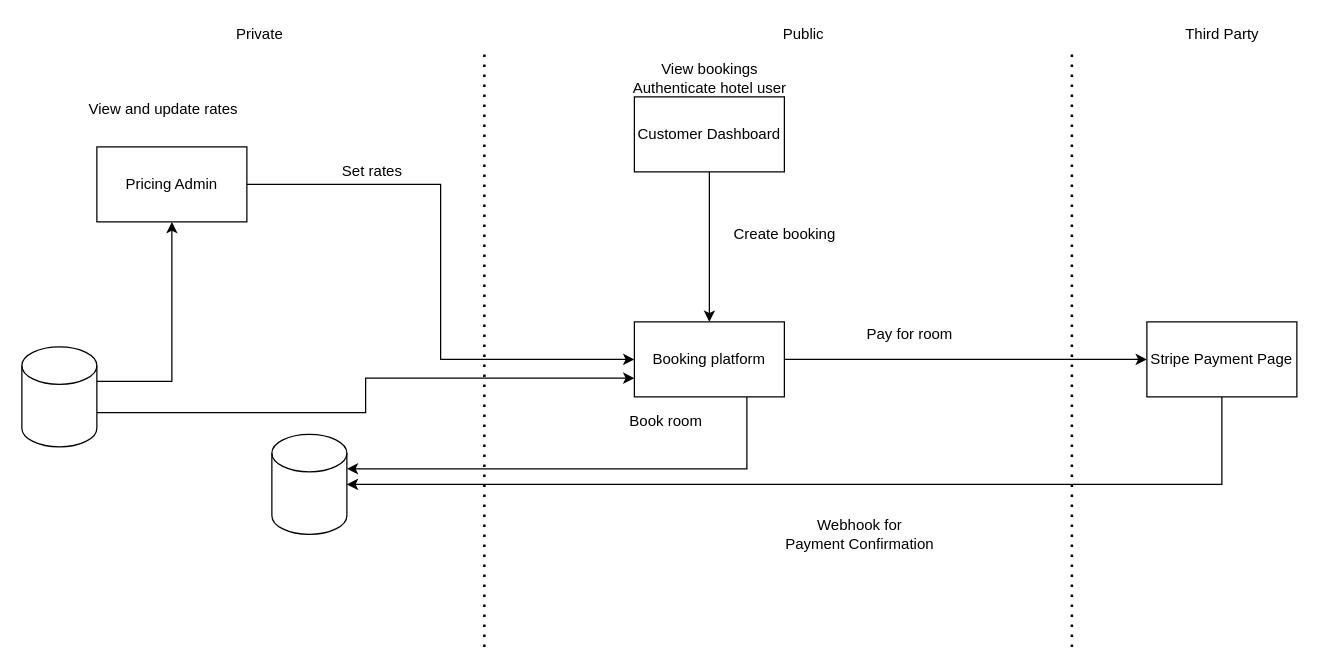
Image size: 1319x670. Some labels were removed from this diagram. Here are the shapes that lost their labels. From the top down, the centre of each, then its label:
At point 59,396: "SQL Server".
At point 309,483: "MongoDB".
